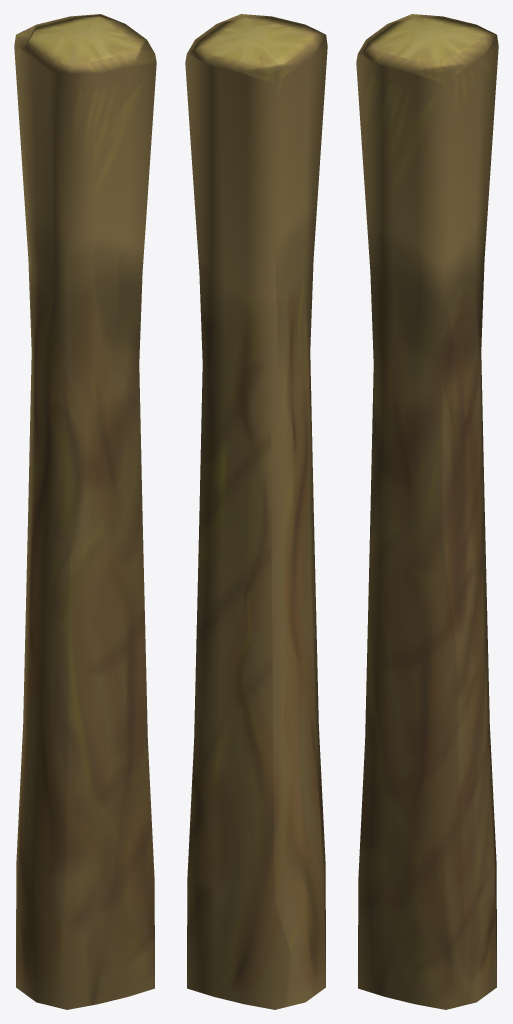
The model's file is Hammer Handle.fbx.
3 renders of one model, left to right at view 1: azimuth 30°, elevation 25°; view 2: azimuth 150°, elevation 25°; view 3: azimuth 330°, elevation 25°, orthographic.
Visible parts, largest first — view 1: Hammer Handle; view 2: Hammer Handle; view 3: Hammer Handle.
Boxes of the visible parts, left/top/right/bottom form: Hammer Handle: left=14, top=14, right=156, bottom=1009; Hammer Handle: left=185, top=14, right=327, bottom=1009; Hammer Handle: left=356, top=14, right=498, bottom=1009.
Size of the model in its own units: 8.5 by 64.85 by 8.03.
